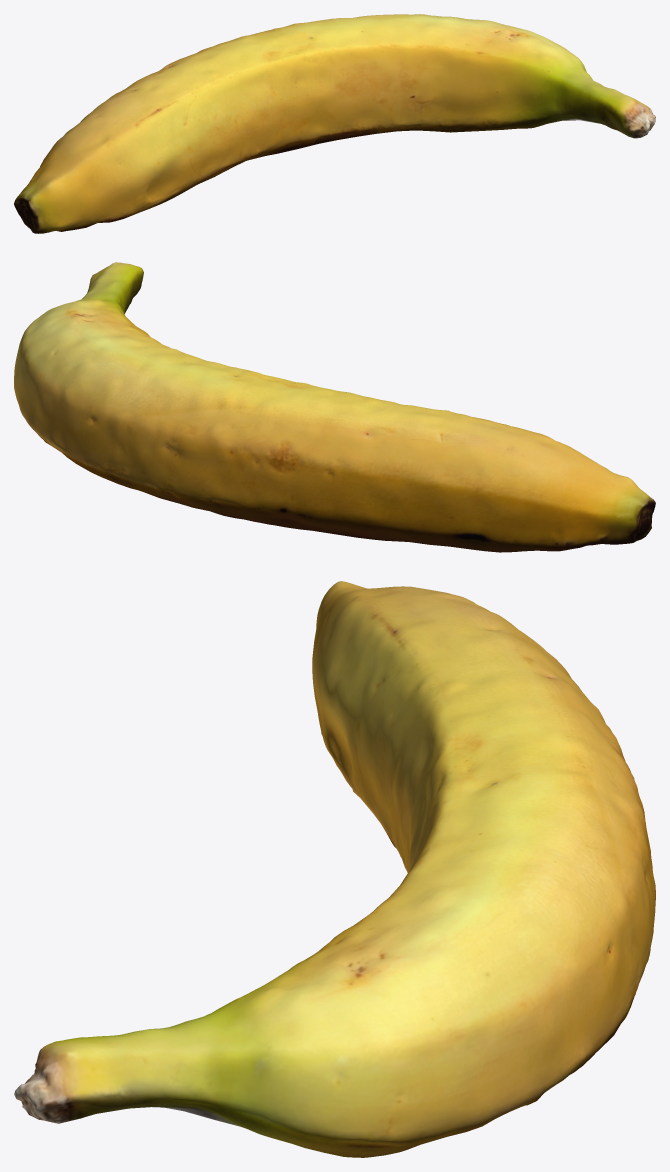
File: 3DModel_LowPoly.obj
3 renders of one model, top to bottom at view 1: azimuth 30°, elevation 25°; view 2: azimuth 150°, elevation 25°; view 3: azimuth 270°, elevation 25°, orthographic. The views are drawn at different scales.
Parts seen in each view (by area): view 1: 3DModel_LowPoly; view 2: 3DModel_LowPoly; view 3: 3DModel_LowPoly.
Part boxes in pixels (left/top/right/bottom): 3DModel_LowPoly: left=14, top=14, right=655, bottom=233; 3DModel_LowPoly: left=14, top=262, right=655, bottom=552; 3DModel_LowPoly: left=14, top=581, right=655, bottom=1157.
Size of the model in its own units: 0.1973 by 0.037 by 0.1009.
Materials: 1 (1 with a texture image).
